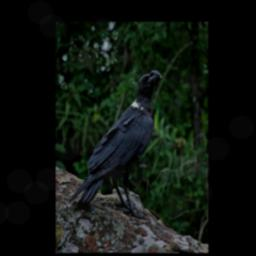Crow: (69, 68, 164, 219)
